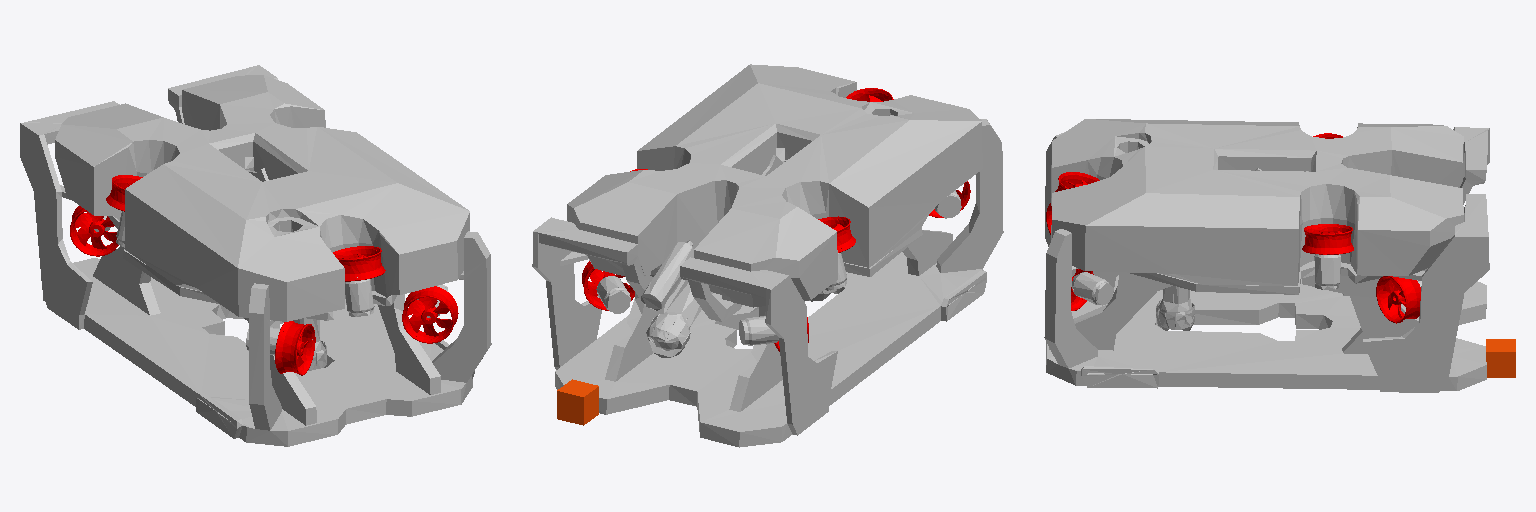
URDF robot description (bluevolta):
<?xml version="1.0"?>
<robot name="bluevolta">

        <material name="green">
                <color rgba="0.235 0.702 0.443 1"/>
        </material>

        <material name="blue">
                <color rgba="0.263 0.733 0.984 1"/>
        </material>

        <material name="red">
                <color rgba="1 0 0 1"/>
        </material>

        <material name="black">
                <color rgba="0.8 0.8 0.8 1"/>
        </material>

        <material name="orange">
                <color rgba="1 0.369 0.047 1"/>
        </material>

            <link name="bluevolta_base_link"/>

                <joint name="bluevolta_fixed_joint" type="fixed">
                    <origin xyz="0 0 0" rpy="-3.141592654 0 3.141592654"/>
                    <parent link="bluevolta_base_link"/>
                    <child link="bluevolta_rov"/>
                </joint>

            <link name="bluevolta_rov">
                <!--Inertial parameters are not correct-->
                <inertial>
                    <mass value="200.0"/>
                    <origin xyz="0 0 0"/>
                    <inertia ixx="0.01152" ixy="0.0" ixz="0.0" iyy="0.01152" iyz="0.0" izz="0.0218"/>
                </inertial>
                <visual>
                    <origin rpy="0 0 0" xyz="0 0 0"/>
                    <geometry>
                        <mesh filename="package://example-robot-data/robots/bluevolta_description/meshes/bluevolta.stl"/>
                    </geometry>
                    <material name="black"/>
                </visual>
                <collision>
                    <origin rpy="0 0 0" xyz="0 0 0"/>
                    <geometry>
                        <mesh filename="package://example-robot-data/robots/bluevolta_description/meshes/bluevolta_convex_hull.stl"/>
                    </geometry>
                </collision>
            </link>

            <!--THRUSTERS-->
            <link name="Thruster_TOP_FL">
                <visual>
                    <geometry>
                        <mesh filename="package://example-robot-data/robots/bluevolta_description/meshes/bluevolta_propeller.stl"/>
                    </geometry>
                    <material name="red"/>
                </visual>
            </link>

            <link name="Thruster_TOP_FR">
                <visual>
                    <geometry>
                        <mesh filename="package://example-robot-data/robots/bluevolta_description/meshes/bluevolta_propeller.stl"/>
                    </geometry>
                    <material name="red"/>
                </visual>
            </link>

            <link name="Thruster_TOP_B">
                <visual>
                    <geometry>
                        <mesh filename="package://example-robot-data/robots/bluevolta_description/meshes/bluevolta_propeller.stl"/>
                    </geometry>
                    <material name="red"/>
                </visual>
            </link>

            <link name="Thruster_BOTTOM_FL">
                <visual>
                    <geometry>
                        <mesh filename="package://example-robot-data/robots/bluevolta_description/meshes/bluevolta_propeller.stl"/>
                    </geometry>
                    <material name="red"/>
                </visual>
            </link>

            <link name="Thruster_BOTTOM_FR">
                <visual>
                    <geometry>
                        <mesh filename="package://example-robot-data/robots/bluevolta_description/meshes/bluevolta_propeller.stl"/>
                    </geometry>
                    <material name="red"/>
                </visual>
            </link>

            <link name="Thruster_BOTTOM_BL">
                <visual>
                    <geometry>
                        <mesh filename="package://example-robot-data/robots/bluevolta_description/meshes/bluevolta_propeller.stl"/>
                    </geometry>
                    <material name="red"/>
                </visual>
            </link>

            <link name="Thruster_BOTTOM_BR">
                <visual>
                    <geometry>
                        <mesh filename="package://example-robot-data/robots/bluevolta_description/meshes/bluevolta_propeller.stl"/>
                    </geometry>
                    <material name="red"/>
                </visual>
            </link>

                    <joint name="Thruster_TOP_FL_joint" type="fixed">
                        <parent link="bluevolta_rov"/>
                        <child link="Thruster_TOP_FL"/>
                        <origin rpy="0.0 1.8 0.0" xyz="0.34 0.25 -0.28"/>
                    </joint>

                    <joint name="Thruster_TOP_FR_joint" type="fixed">
                        <parent link="bluevolta_rov"/>
                        <child link="Thruster_TOP_FR"/>
                        <origin rpy="0.0 1.34 0.0" xyz="-0.34 0.25 -0.28"/>
                    </joint>

                    <joint name="Thruster_TOP_B_joint" type="fixed">
                        <parent link="bluevolta_rov"/>
                        <child link="Thruster_TOP_B"/>
                        <origin rpy="0.0 1.8 -1.57" xyz="0.0 -0.6 -0.3"/>
                    </joint>

                    <joint name="Thruster_BOTTOM_FR_joint" type="fixed">
                        <parent link="bluevolta_rov"/>
                        <child link="Thruster_BOTTOM_FR"/>
                        <origin rpy="0.0 0.0 -2.24" xyz="-0.31 0.52 -0.1"/>
                    </joint>

                    <joint name="Thruster_BOTTOM_BL_joint" type="fixed">
                        <parent link="bluevolta_rov"/>
                        <child link="Thruster_BOTTOM_BL"/>
                        <origin rpy="0.0 0.0 -2.24" xyz="0.27 -0.6 -0.11"/>
                    </joint>

                    <joint name="Thruster_BOTTOM_FL_joint" type="fixed">
                        <parent link="bluevolta_rov"/>
                        <child link="Thruster_BOTTOM_FL"/>
                        <origin rpy="0.0 0.0 -0.9" xyz="0.31 0.52 -0.1"/>
                    </joint>

                    <joint name="Thruster_BOTTOM_BR_joint" type="fixed">
                        <parent link="bluevolta_rov"/>
                        <child link="Thruster_BOTTOM_BR"/>
                        <origin rpy="0.0 0.0 -0.9" xyz="-0.27 -0.6 -0.11"/>
                    </joint>

        <!--Arm attaching link-->
        <link name="box_base_bravo">
            <visual>
                <geometry>
                    <box size="0.1 0.1 0.1"/>
                </geometry>
                <material name="orange"/>
            </visual>
        </link>

                <joint name="box_base_bravo_joint" type="fixed">
                        <origin xyz="-0.25 0.835 0.17" rpy="0 0 0"/>
                    <parent link="bluevolta_rov"/>
                    <child link="box_base_bravo"/>
                </joint>
</robot>

--- What the picture shows (computed from the rendered views, not written in the file) ---
The picture shows the robot from 3 angles, left to right: view 1: azimuth 30°, elevation 25°; view 2: azimuth 150°, elevation 25°; view 3: azimuth 270°, elevation 25°; orthographic projection.
Robot: bluevolta — 10 links, 9 joints (9 fixed); root link bluevolta_base_link; default pose: all joints at 0.
Visible links, largest first — view 1: bluevolta_rov, Thruster_BOTTOM_BR, Thruster_BOTTOM_BL, Thruster_BOTTOM_FL, Thruster_TOP_B, Thruster_TOP_FL; view 2: bluevolta_rov, box_base_bravo, Thruster_BOTTOM_FR, Thruster_TOP_FL; view 3: bluevolta_rov, Thruster_BOTTOM_FR, Thruster_TOP_FR, box_base_bravo.
Boxes of the visible links, x1,y1,x2,y2 form: bluevolta_rov: [20, 65, 491, 446]; Thruster_BOTTOM_BR: [402, 286, 458, 343]; Thruster_BOTTOM_BL: [275, 321, 315, 375]; Thruster_BOTTOM_FL: [70, 206, 118, 256]; Thruster_TOP_B: [333, 246, 385, 281]; Thruster_TOP_FL: [106, 175, 142, 211]; bluevolta_rov: [532, 64, 1003, 447]; box_base_bravo: [557, 379, 598, 425]; Thruster_BOTTOM_FR: [582, 261, 634, 310]; Thruster_TOP_FL: [818, 216, 855, 252]; bluevolta_rov: [1044, 119, 1489, 392]; Thruster_BOTTOM_FR: [1376, 276, 1420, 323]; Thruster_TOP_FR: [1302, 224, 1353, 254]; box_base_bravo: [1486, 339, 1515, 377].
Size in the robot's own frame: 0.8943 by 1.6 by 0.6841 metres.
Meshes: 2 distinct files referenced, 8 mesh visuals loaded (2 binary STL).